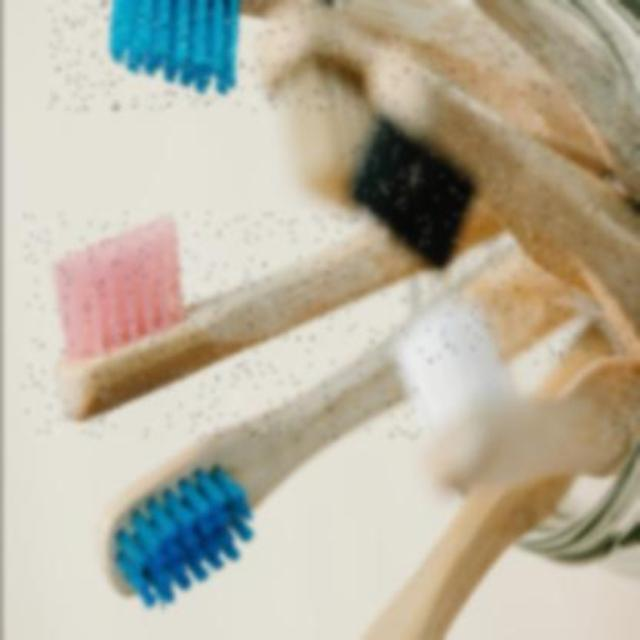toothbrush: (342, 31, 640, 366), (22, 212, 422, 440), (86, 346, 414, 618), (48, 0, 348, 110)
